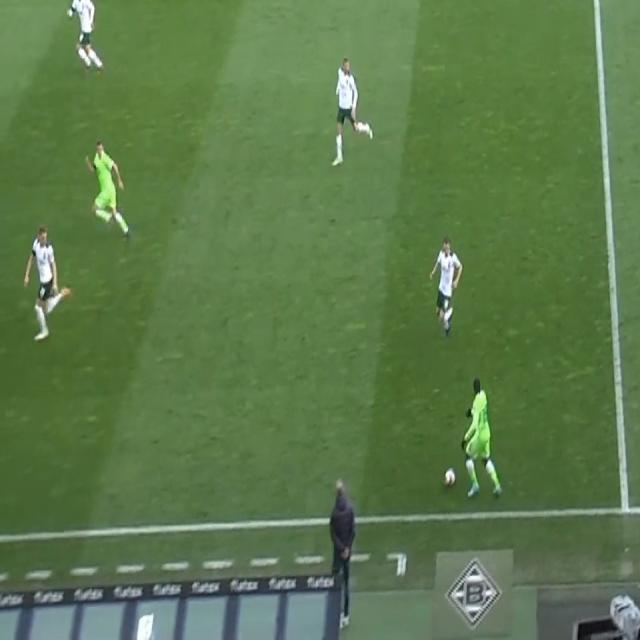ball: (444, 466, 457, 488)
